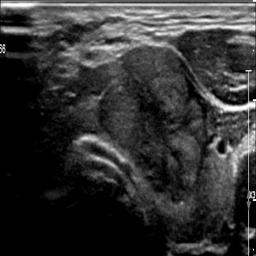mass: (99, 45, 205, 194)
